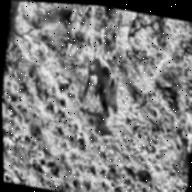boar: (80, 40, 124, 121)
